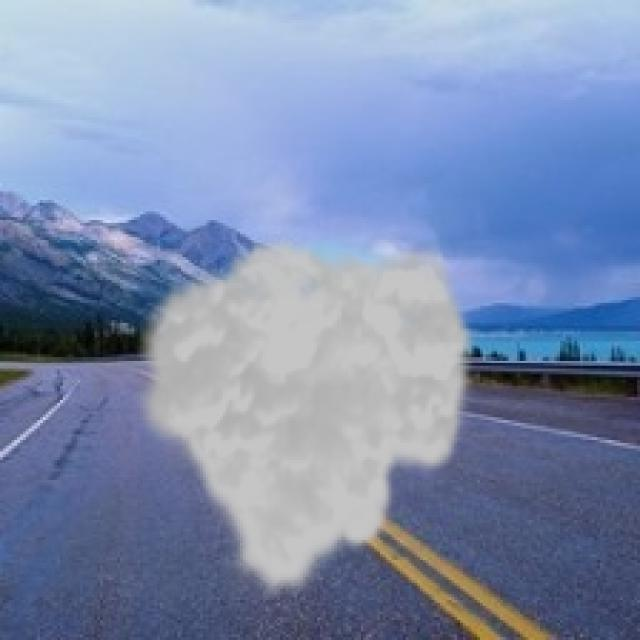smoke: (129, 234, 480, 603)
